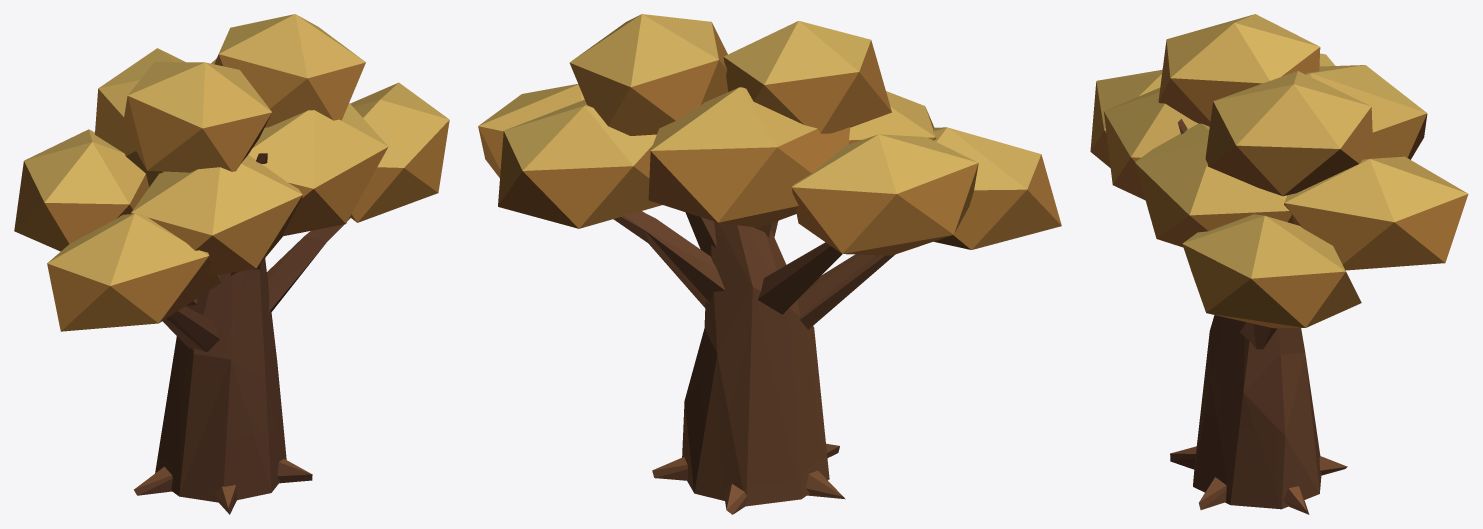
3 views of the same model, side by side, from view 1: azimuth 30°, elevation 25°; view 2: azimuth 150°, elevation 25°; view 3: azimuth 270°, elevation 25° (orthographic). The views are drawn at different scales.
Parts seen in each view (by area): view 1: WK_Tree_Oak_GnarledAmber_LOD1_Balanced; view 2: WK_Tree_Oak_GnarledAmber_LOD1_Balanced; view 3: WK_Tree_Oak_GnarledAmber_LOD1_Balanced.
Part boxes in pixels (x1=…): WK_Tree_Oak_GnarledAmber_LOD1_Balanced: x1=14, y1=14, x2=449, y2=514; WK_Tree_Oak_GnarledAmber_LOD1_Balanced: x1=478, y1=14, x2=1061, y2=514; WK_Tree_Oak_GnarledAmber_LOD1_Balanced: x1=1090, y1=14, x2=1468, y2=514.
Bounding box in the file's own units: 5.93 × 5.41 × 4.12.
